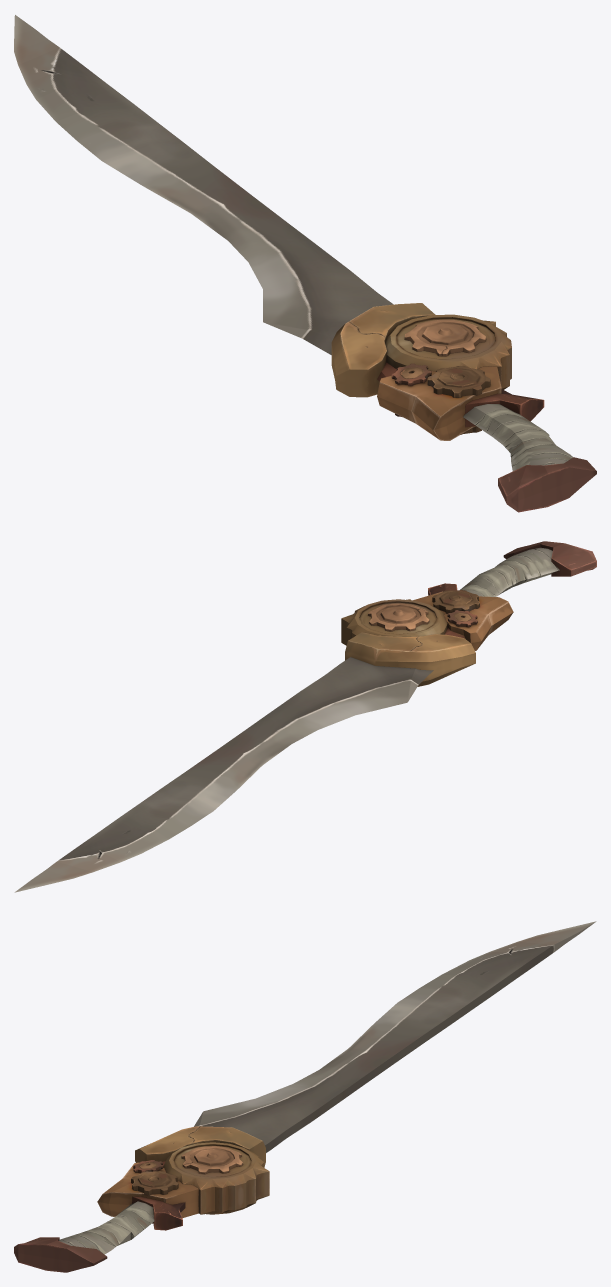
The model's file is SteamPunkSword.fbx.
3 views of the same model, one above another, from view 1: azimuth 30°, elevation 25°; view 2: azimuth 150°, elevation 25°; view 3: azimuth 330°, elevation 25° (orthographic). The views are drawn at different scales.
Visible parts, largest first — view 1: Sword; view 2: Sword; view 3: Sword.
Boxes of the visible parts, x1,y1,x2,y2 form: Sword: (14, 15, 596, 512); Sword: (14, 541, 596, 892); Sword: (14, 921, 596, 1272).
Size of the model in its own units: 104 by 37.82 by 677.
1 material, 1 textured.
